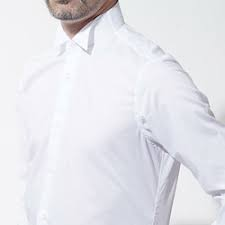S_shirt: (23, 2, 225, 224)
